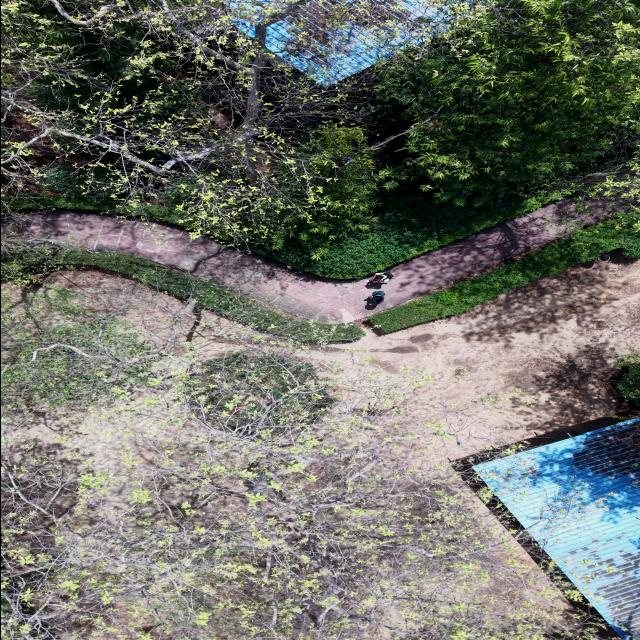DRY_AREA: (291, 251, 639, 599), (307, 251, 639, 526), (305, 253, 639, 481), (4, 196, 613, 321), (291, 252, 639, 467), (309, 251, 639, 467), (313, 255, 639, 469), (310, 254, 639, 464), (311, 255, 639, 460), (1, 270, 273, 379), (45, 269, 255, 359)
ROOFTOP_BUILDING: (474, 417, 639, 639), (230, 0, 436, 84)
VEGETATION_TREE: (1, 247, 608, 639), (1, 282, 604, 639), (1, 0, 639, 331), (1, 0, 639, 277), (4, 424, 599, 639), (279, 0, 639, 277), (1, 0, 376, 253), (1, 236, 363, 417), (373, 0, 639, 205), (369, 162, 639, 332), (1, 240, 363, 344), (369, 212, 638, 332), (52, 249, 363, 343), (265, 181, 562, 278), (1, 288, 174, 418), (615, 347, 639, 402), (614, 362, 640, 402)
